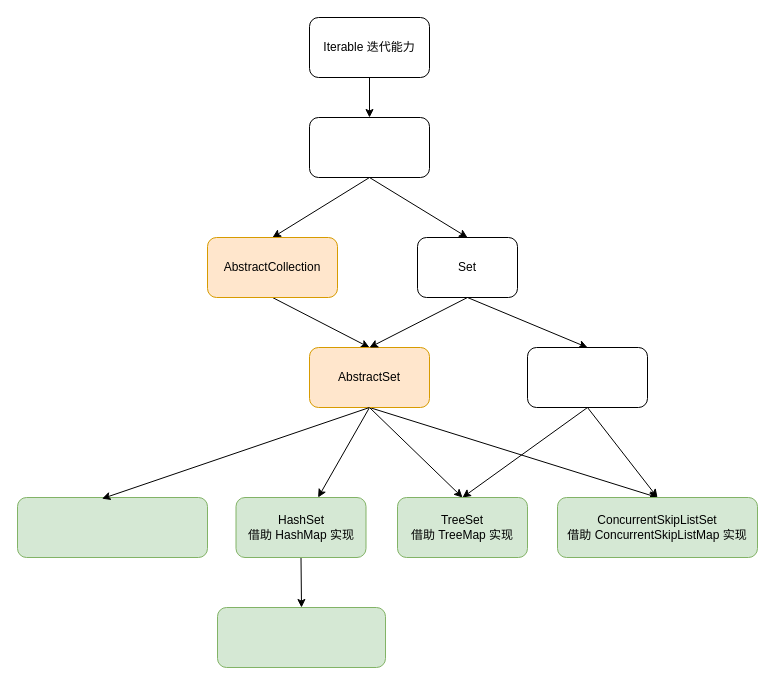
Some shapes in this 775 by 685 pixel diagram are drawn without their labels. Here are the shapes that lost their labels. From the top down, the centre of each, then its label:
At point (369, 147): "Collection".
At point (587, 377): "SortedSet 有序".
At point (112, 527): "CopyOnWriteArraySet 借助 CopyOnWriteArrayList 实现".
At point (301, 637): "Linked HashSet 借助 LinkedHashMap 实现".
